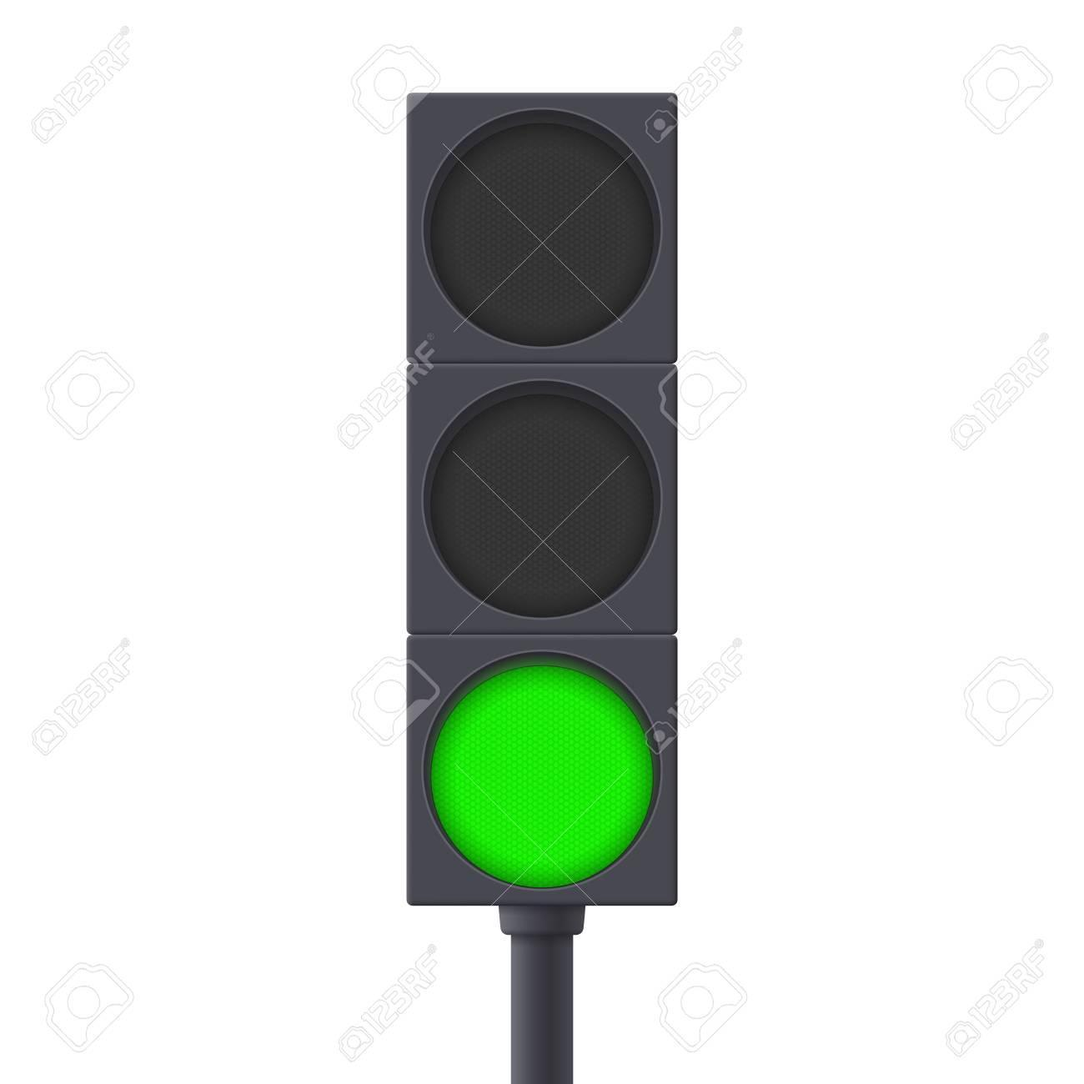green: (386, 75, 709, 934)
